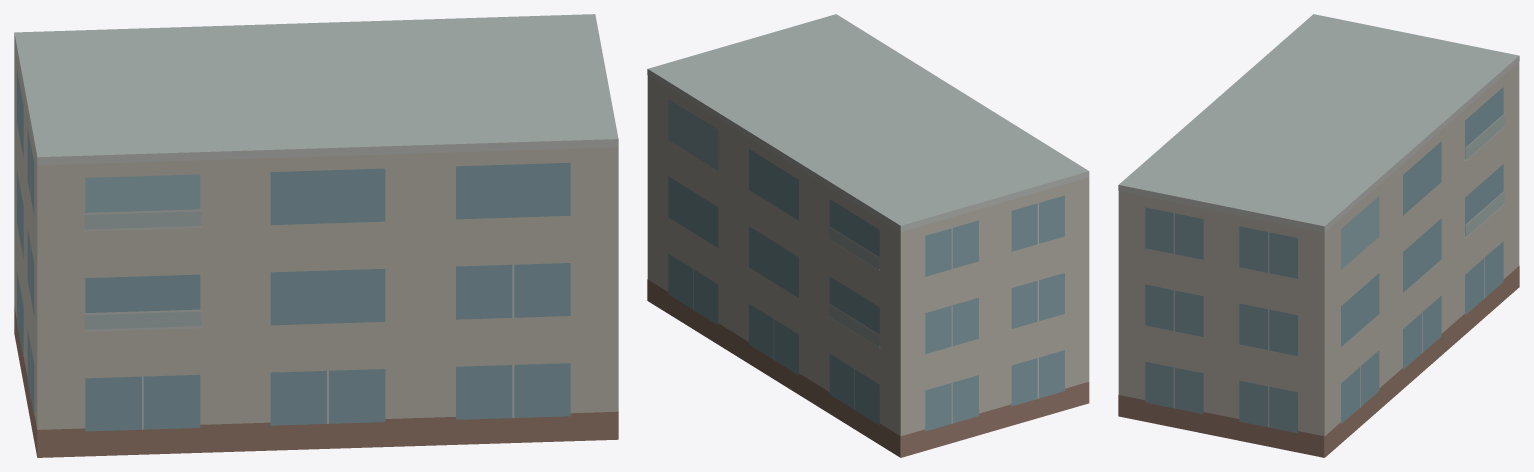
File: survey-upis-32810533.glb
3 renders of one model, left to right at view 1: azimuth 30°, elevation 25°; view 2: azimuth 150°, elevation 25°; view 3: azimuth 270°, elevation 25°, orthographic. The views are drawn at different scales.
Visible parts, largest first — view 1: survey-upis-32810533.tmp; view 2: survey-upis-32810533.tmp; view 3: survey-upis-32810533.tmp.
Part boxes in pixels (x1,y1,x2,y2): survey-upis-32810533.tmp: (14, 14, 618, 457); survey-upis-32810533.tmp: (647, 14, 1089, 457); survey-upis-32810533.tmp: (1118, 14, 1519, 457).
Bounding box in the file's own units: 18.01 × 9.15 × 14.37.
